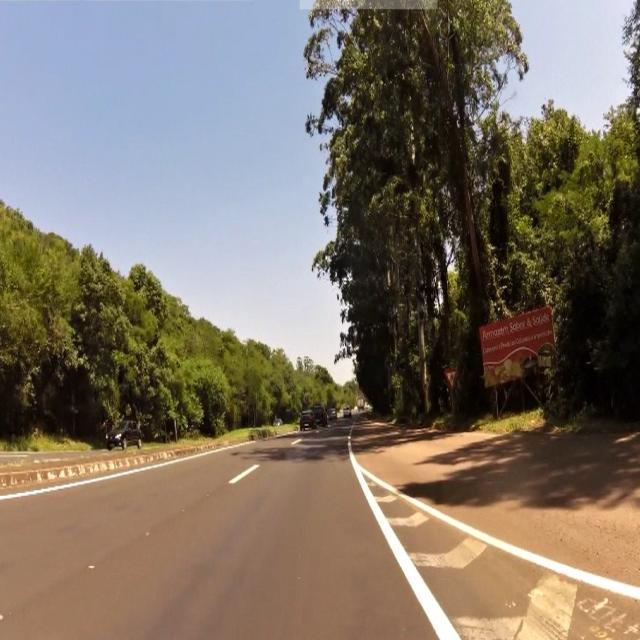R-2: (445, 372, 462, 393)
